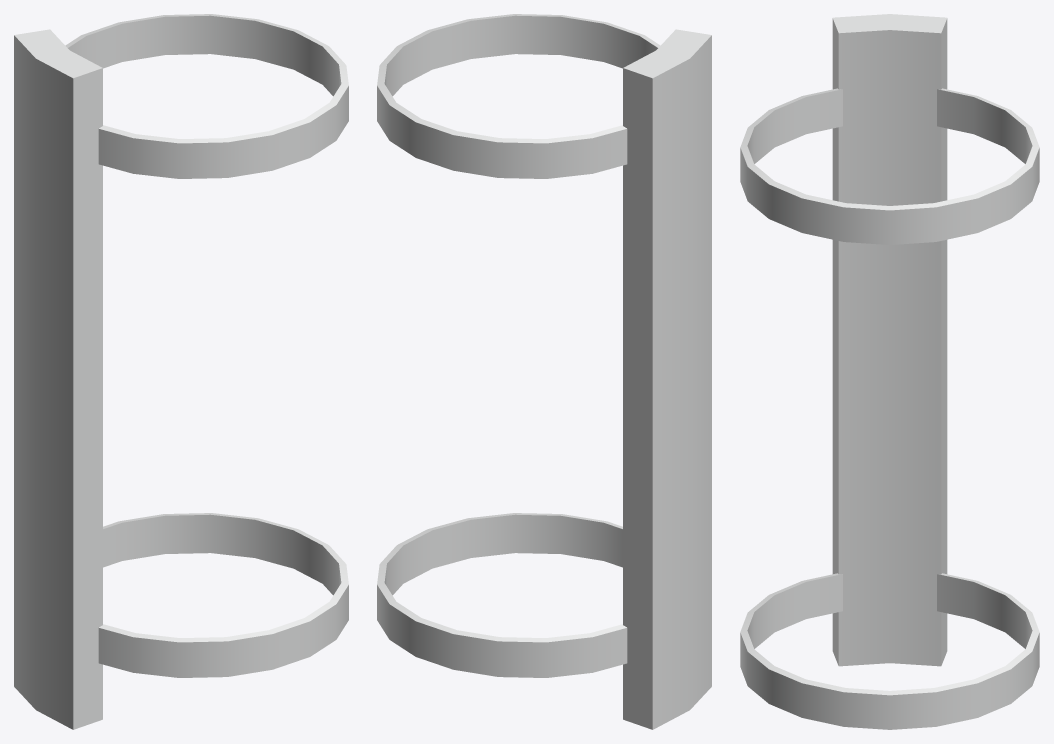
File: FireExtinguisherHoler_01.fbx
3 renders of one model, left to right at view 1: azimuth 30°, elevation 25°; view 2: azimuth 150°, elevation 25°; view 3: azimuth 270°, elevation 25°, orthographic. The views are drawn at different scales.
Parts seen in each view (by area): view 1: FireExtinguisherHoler_01; view 2: FireExtinguisherHoler_01; view 3: FireExtinguisherHoler_01.
Part boxes in pixels (box(x1,y1,x2,y2)): FireExtinguisherHoler_01: box(14, 14, 348, 729); FireExtinguisherHoler_01: box(377, 14, 711, 729); FireExtinguisherHoler_01: box(740, 14, 1039, 729).
Bounding box in the file's own units: 14.59 × 30.99 × 13.28.
